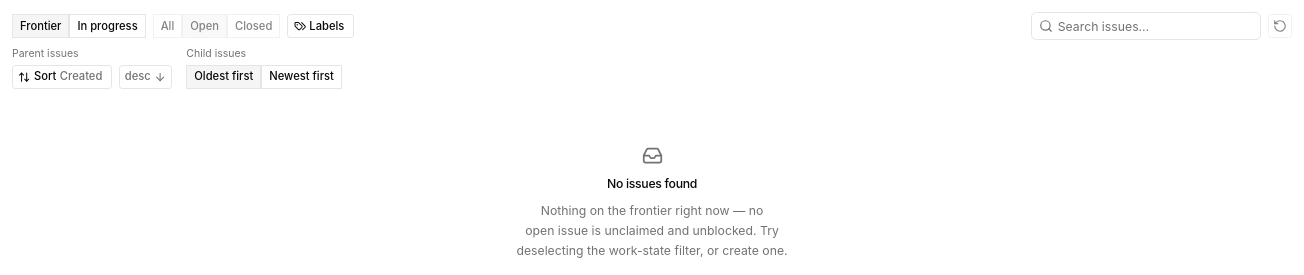
it: IssueList › renders the generic empty state when the work state is deselected
The width and height of the screenshot is (1304, 275).
Expected: the text "No issues found" is shown, [607,175,697,192]
Step 1. Click the radio button labelled "Frontier" → x=41, y=26, box [12,14,69,38]
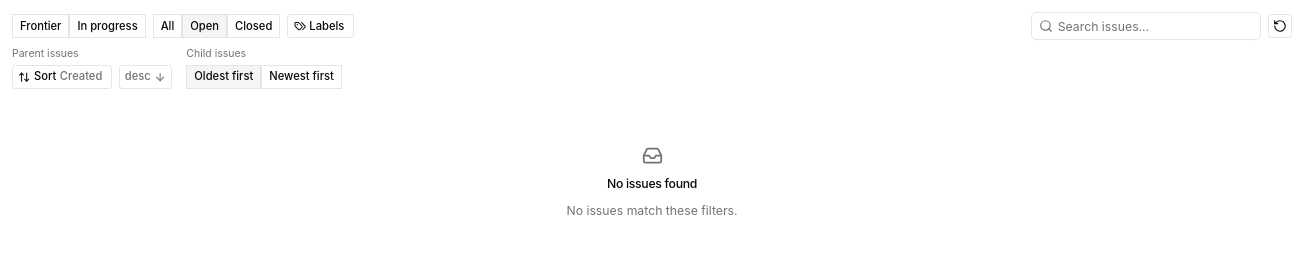
Expected: the text "No issues match these filters." is shown, [566,201,738,221]
